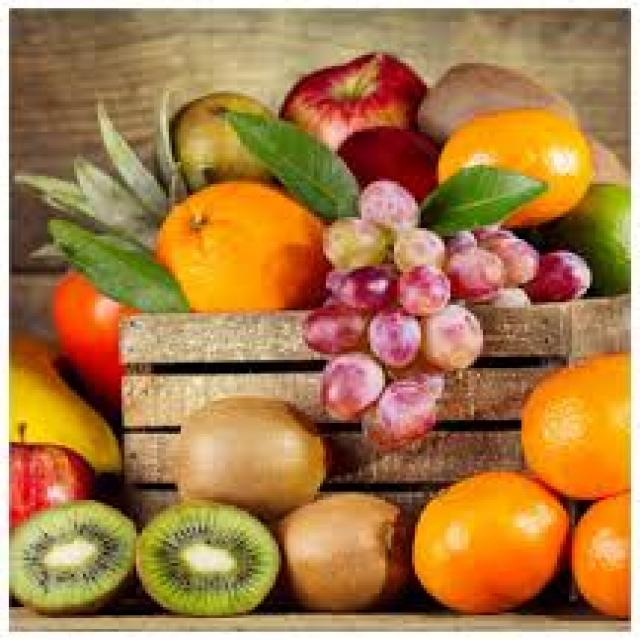organic waste: (9, 85, 184, 256), (151, 175, 326, 308), (409, 467, 569, 612), (432, 104, 586, 228), (9, 321, 121, 481), (175, 396, 329, 508), (134, 494, 278, 612), (273, 486, 406, 607), (519, 346, 625, 497), (219, 107, 359, 214), (9, 494, 133, 612), (278, 50, 426, 148), (48, 217, 190, 310), (50, 266, 140, 409), (421, 58, 572, 143), (166, 88, 273, 181), (418, 162, 548, 236), (9, 420, 95, 528), (548, 178, 625, 294), (338, 121, 432, 203), (566, 494, 628, 618), (317, 349, 382, 415), (438, 242, 501, 305), (374, 376, 436, 439), (421, 302, 477, 368), (367, 302, 421, 365), (480, 230, 536, 286), (296, 302, 362, 349), (528, 250, 590, 299), (323, 261, 394, 302), (320, 212, 382, 258), (358, 176, 415, 222), (581, 132, 625, 187), (400, 261, 447, 310), (391, 349, 445, 390), (391, 225, 439, 269), (356, 401, 400, 448), (439, 228, 477, 255)
